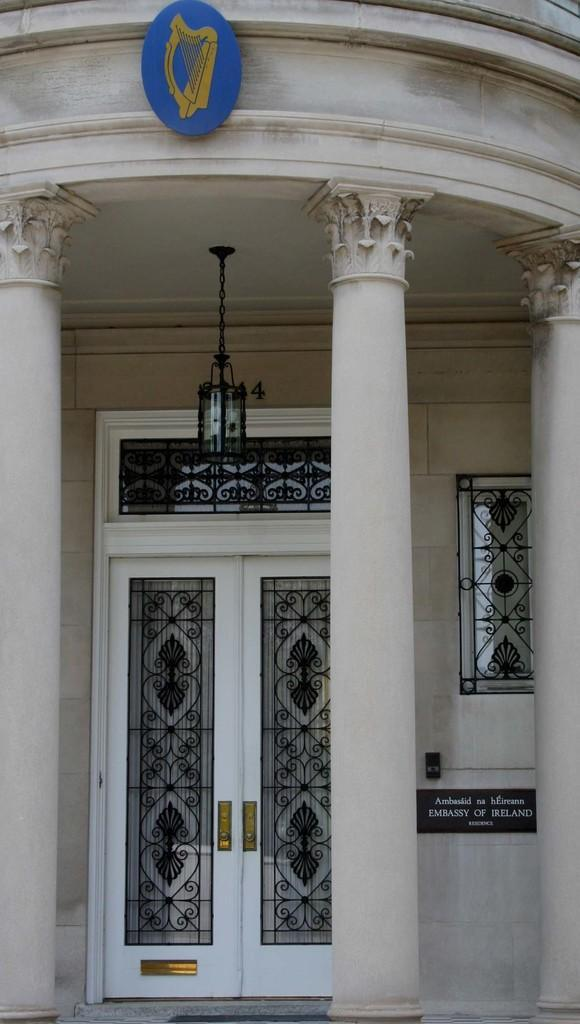door: (107, 564, 239, 990), (246, 573, 334, 977)
handle: (242, 792, 258, 855), (218, 800, 234, 854)
